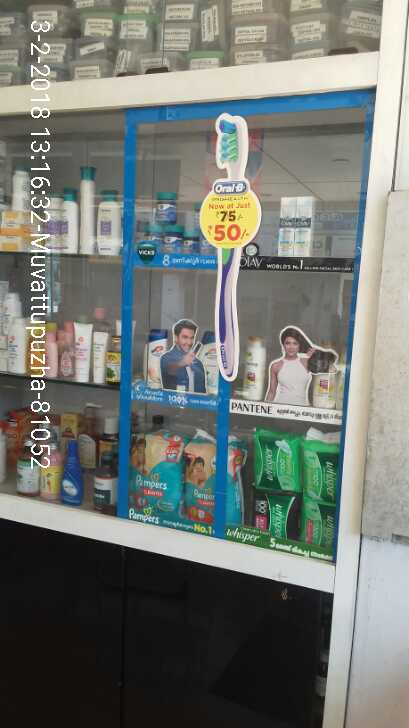vicks: (148, 188, 214, 257)
